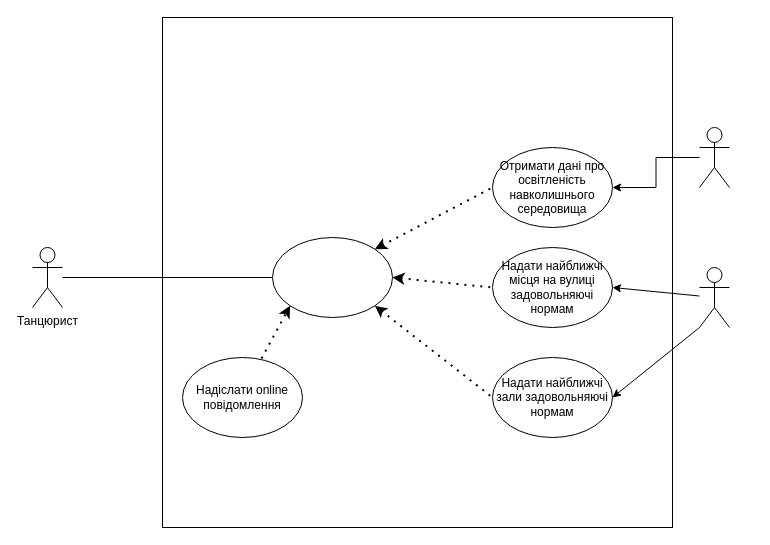
The diagram is 770 pixels wide and 545 high, and some of its shapes have lost their labels. The centre of each missing label's shape, as x and y in pixels:
Environmental illumination api: point (714, 157)
google maps api: point (714, 297)
Надати своє розташування: point (332, 277)
